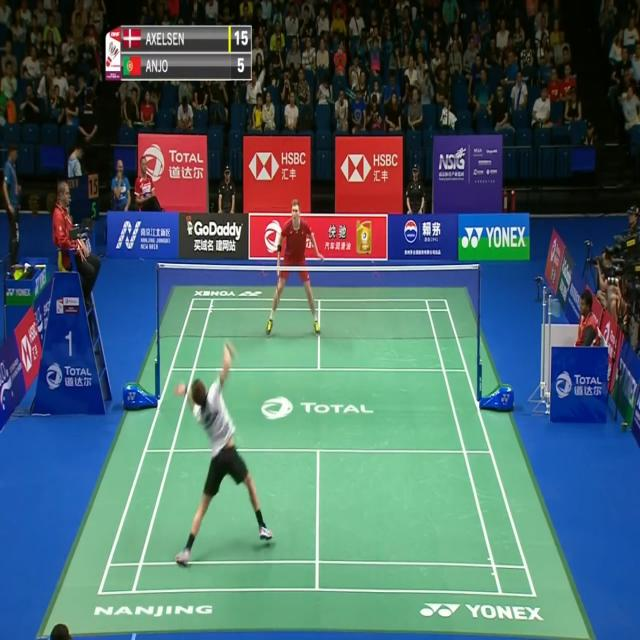Player1: (175, 338, 279, 570)
Player2: (265, 193, 329, 340)
